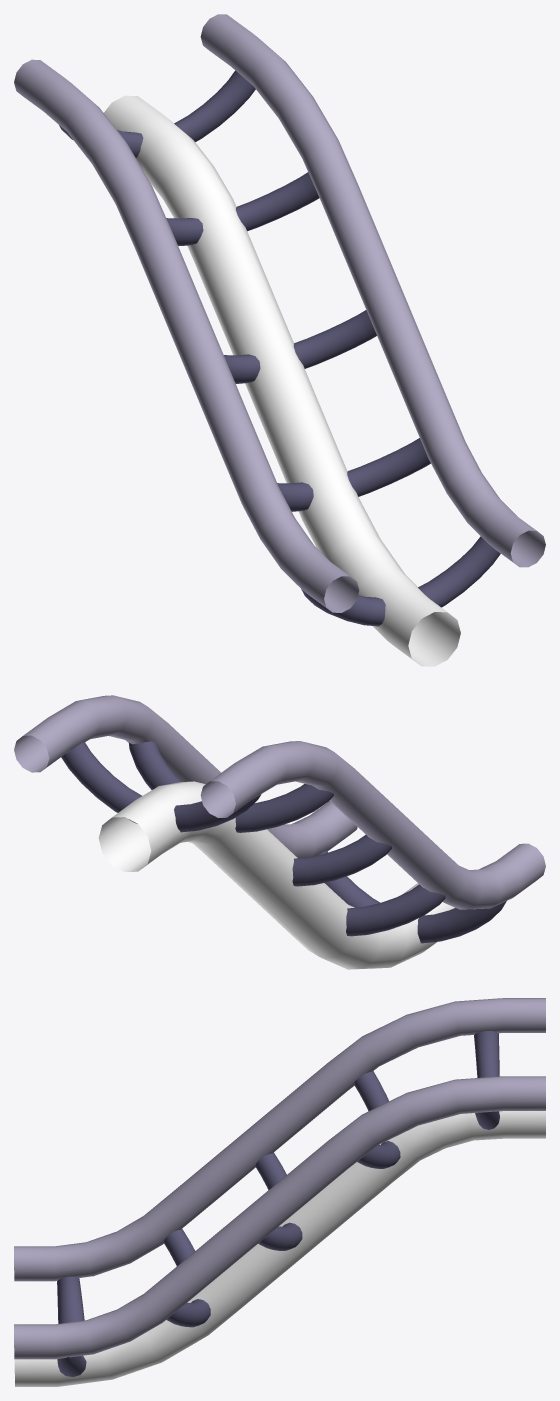
File: rail-up-combined.glb
The picture shows the model from 3 angles, top to bottom: view 1: azimuth 30°, elevation 25°; view 2: azimuth 150°, elevation 25°; view 3: azimuth 270°, elevation 25°; orthographic projection. The views are drawn at different scales.
Parts seen in each view (by area): view 1: Plane.290_Material.001_0; view 2: Plane.290_Material.001_0; view 3: Plane.290_Material.001_0.
Part boxes in pixels (x1,y1,x2,y2): Plane.290_Material.001_0: (14, 14, 545, 666); Plane.290_Material.001_0: (14, 695, 545, 969); Plane.290_Material.001_0: (14, 998, 545, 1386).
Size of the model in its own units: 2.74 by 4.76 by 6.63.
1 material, 1 textured.
